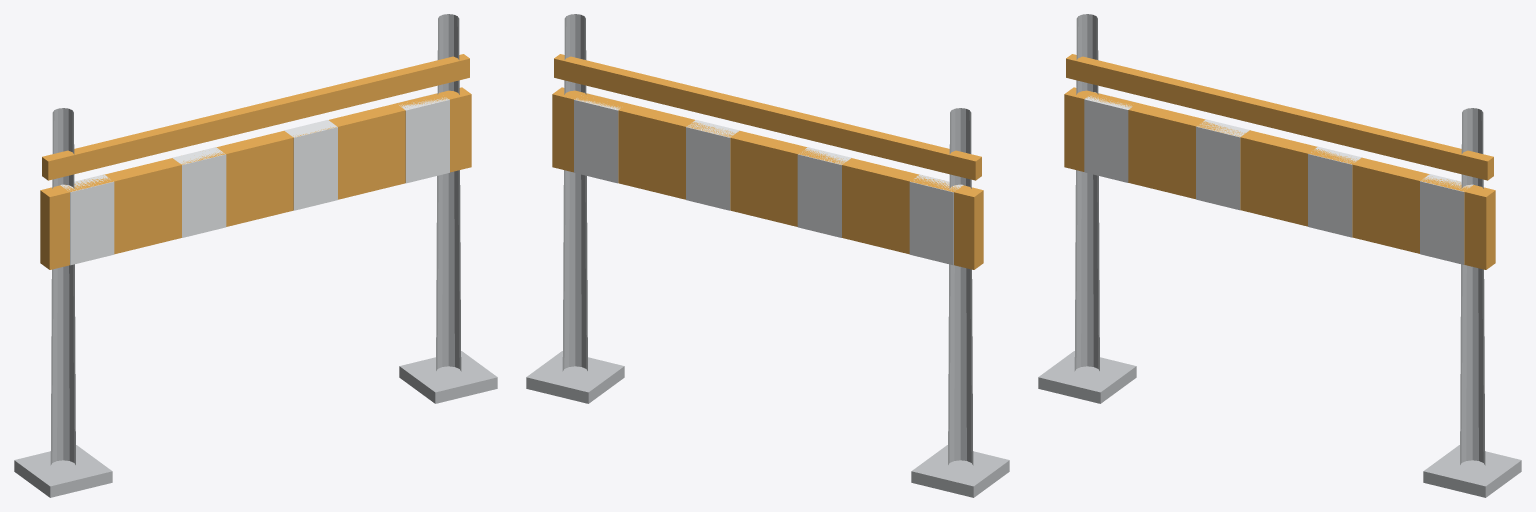
The model's file is barreira.glb.
The picture shows the model from 3 angles, left to right: view 1: azimuth 30°, elevation 25°; view 2: azimuth 150°, elevation 25°; view 3: azimuth 330°, elevation 25°; orthographic projection.
Parts seen in each view (by area): view 1: barreira; view 2: barreira; view 3: barreira.
Part boxes in pixels (x1,y1,x2,y2): barreira: (14,14,497,497); barreira: (526,14,1009,497); barreira: (1038,14,1521,497).
Size of the model in its own units: 2.44 by 1.9 by 0.34.
